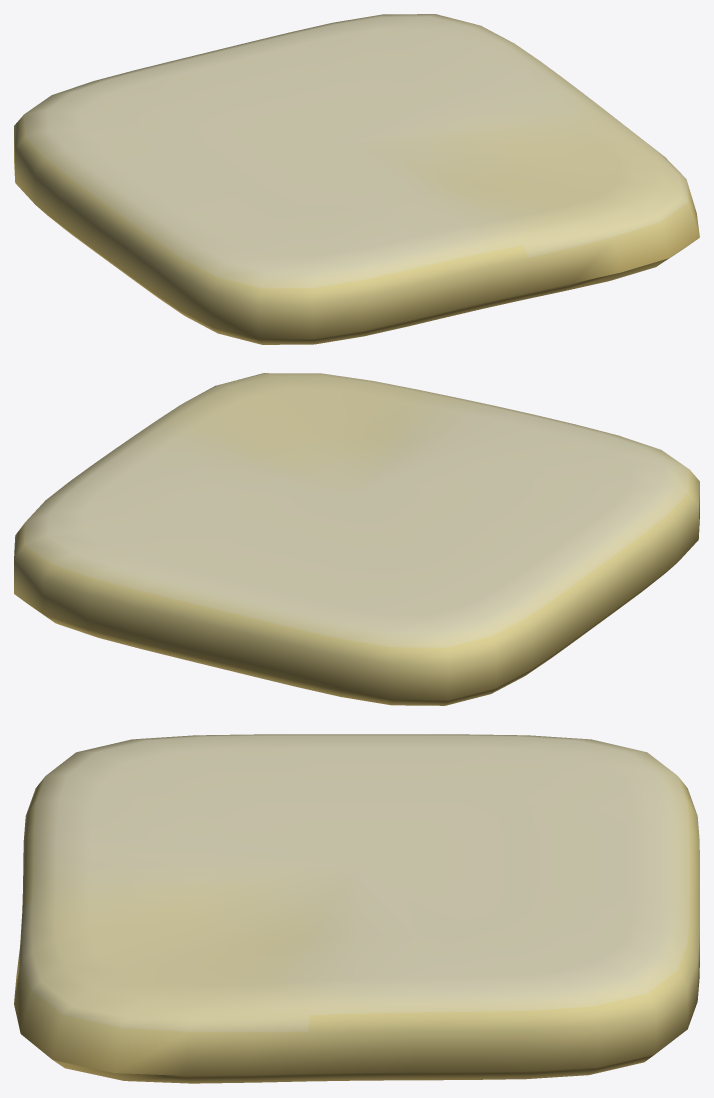
File: butter.glb
3 views of the same model, one above another, from view 1: azimuth 30°, elevation 25°; view 2: azimuth 150°, elevation 25°; view 3: azimuth 270°, elevation 25° (orthographic). The views are drawn at different scales.
Visible parts, largest first — view 1: body; view 2: body; view 3: body.
Boxes of the visible parts, x1=… form: body: x1=14, y1=14, x2=699, y2=344; body: x1=14, y1=373, x2=699, y2=705; body: x1=14, y1=734, x2=699, y2=1083.
Bounding box in the file's own units: 0.7292 × 0.1 × 0.7301.
